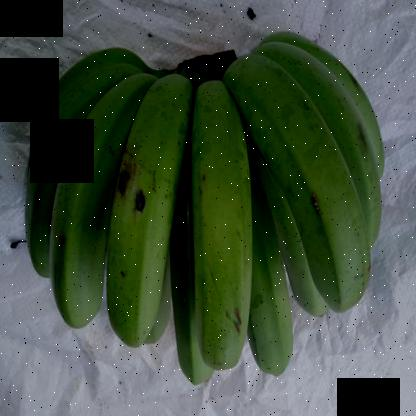unripe: (210, 52, 378, 309), (100, 53, 192, 354), (174, 63, 260, 375), (41, 70, 119, 342)
